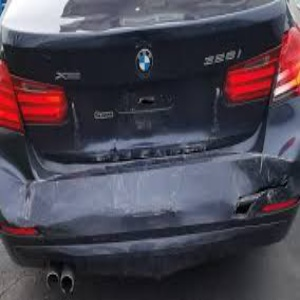bumper: (134, 153, 293, 245)
